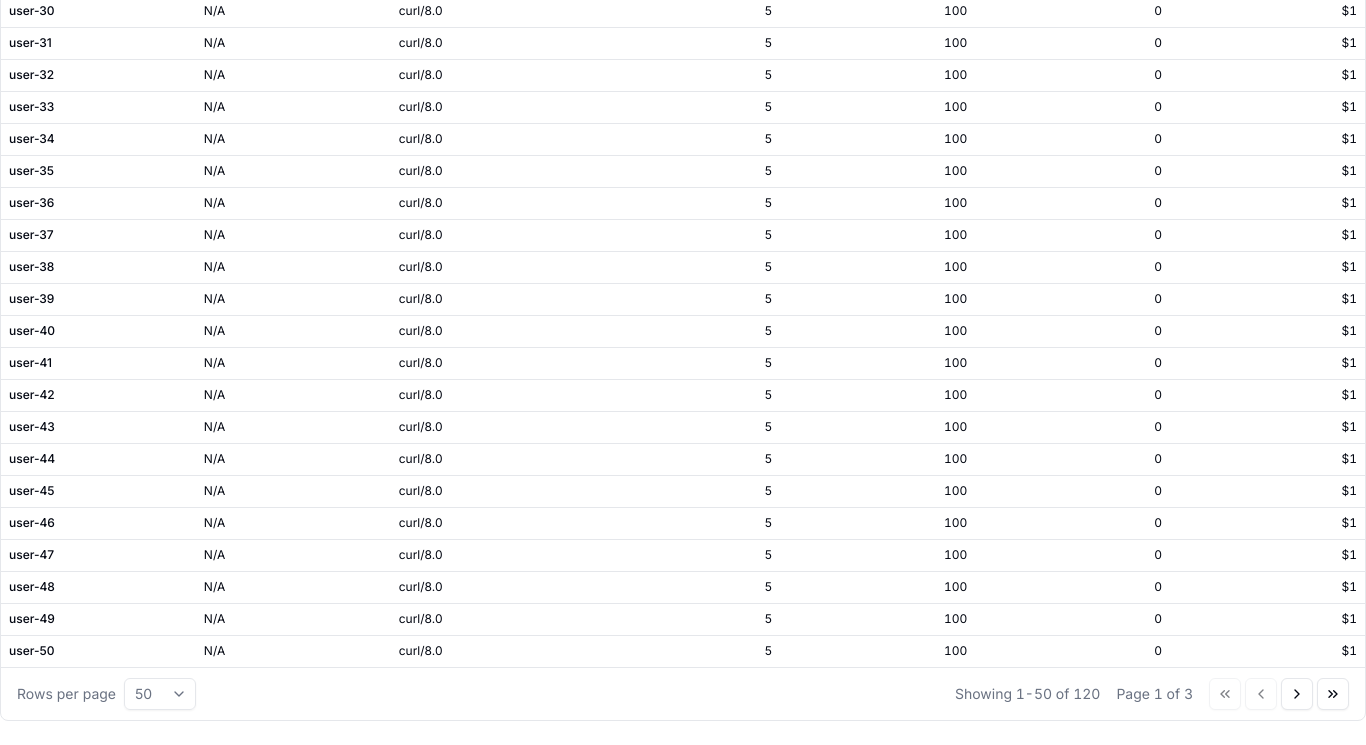
Test: PerUserUsage › server pagination › goes back to the first page when the data disappears under the current page
(page scrolled)
Click the button with test id "pagination-next": (1297, 694) x1=1281 y1=678 x2=1313 y2=710
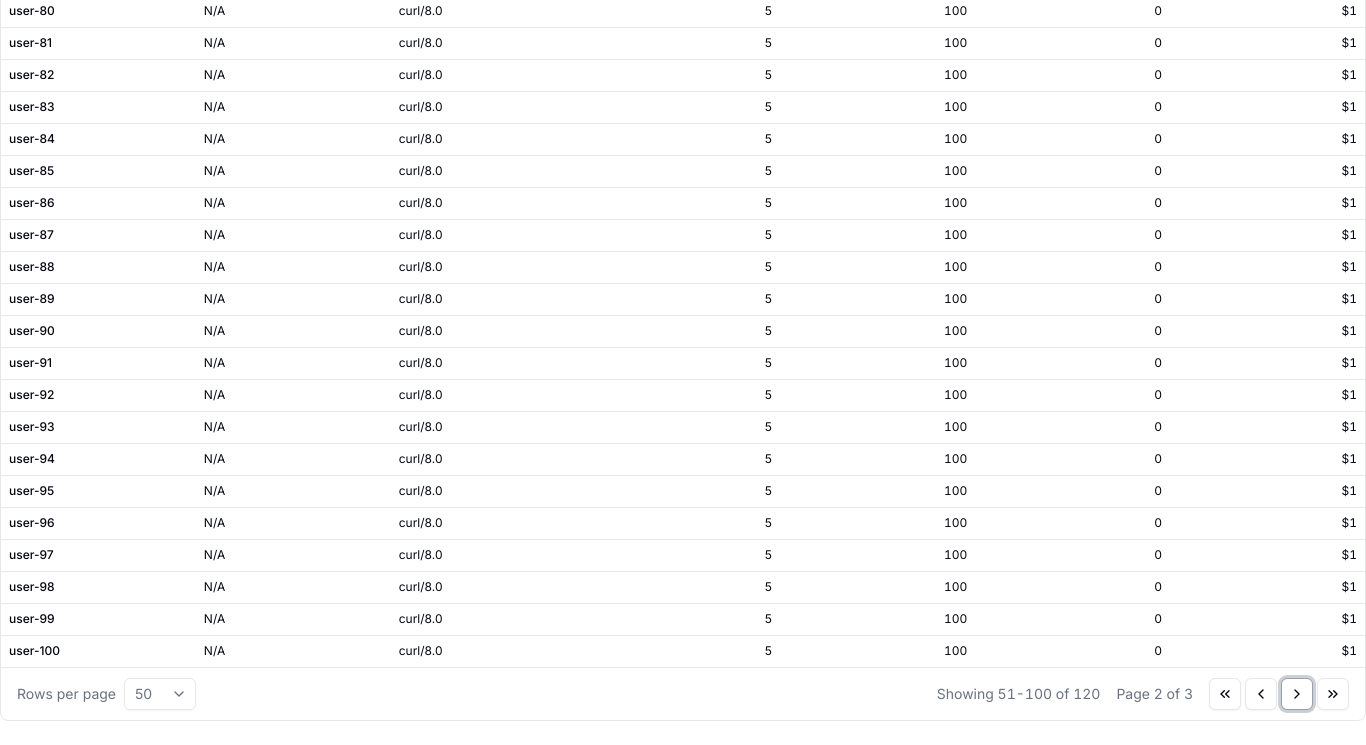
Click the button with test id "pagination-next": (1297, 694) x1=1281 y1=678 x2=1313 y2=710
(page scrolled)
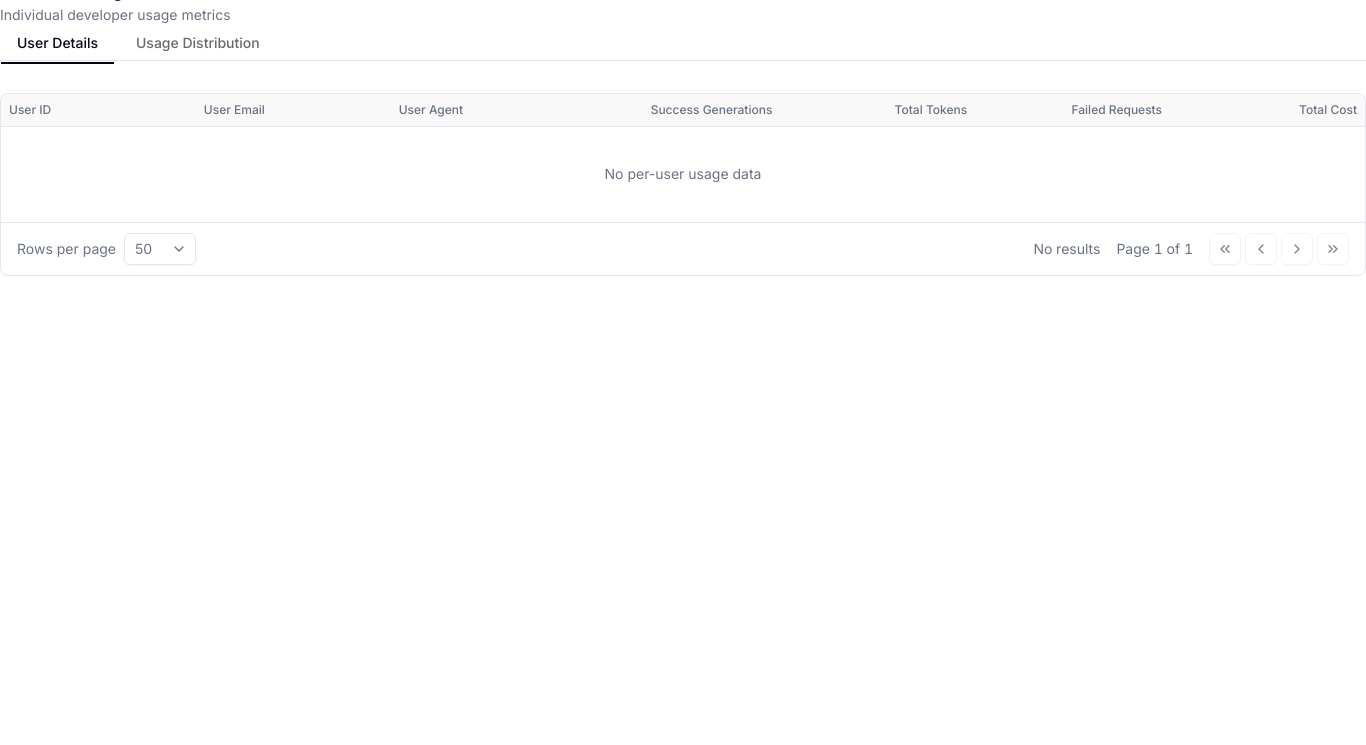
Expected: the text "No per-user usage data" is shown, x1=1 y1=126 x2=1365 y2=222
Expected: the text with test id "pagination-range" reads "No results", x1=1033 y1=240 x2=1100 y2=257
Expected: the text "Page 1 of 1" is shown, x1=1116 y1=239 x2=1193 y2=259
